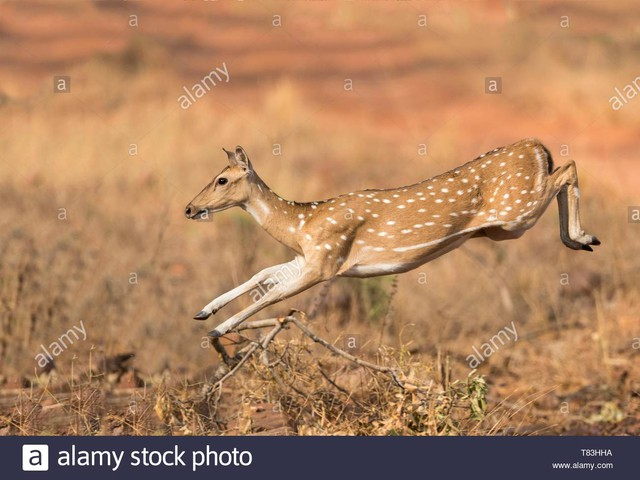deer: (179, 133, 609, 346)
